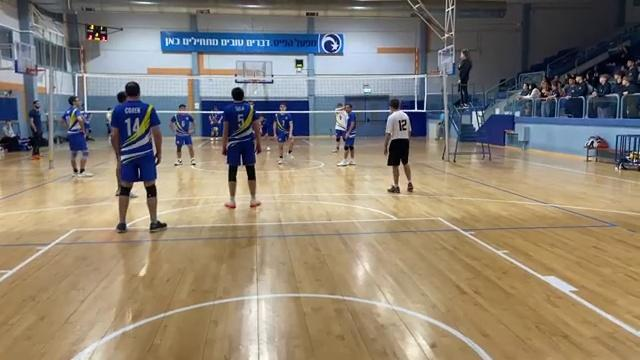ball: (209, 124, 221, 136)
